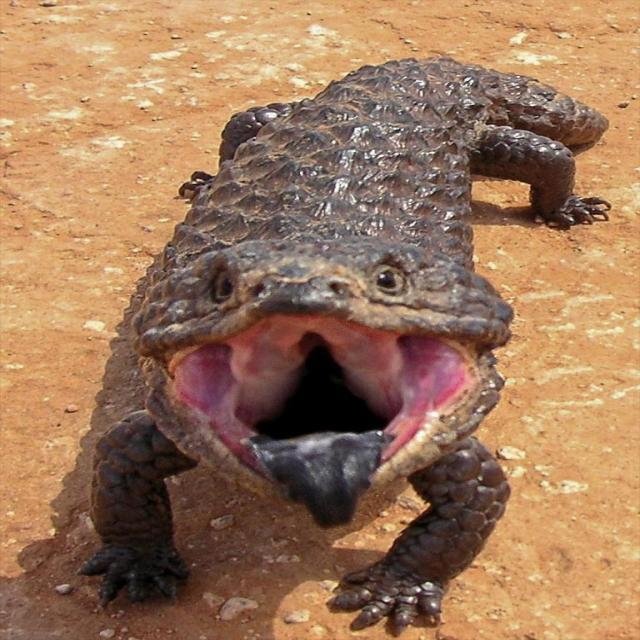crocodile: (80, 57, 623, 636)
